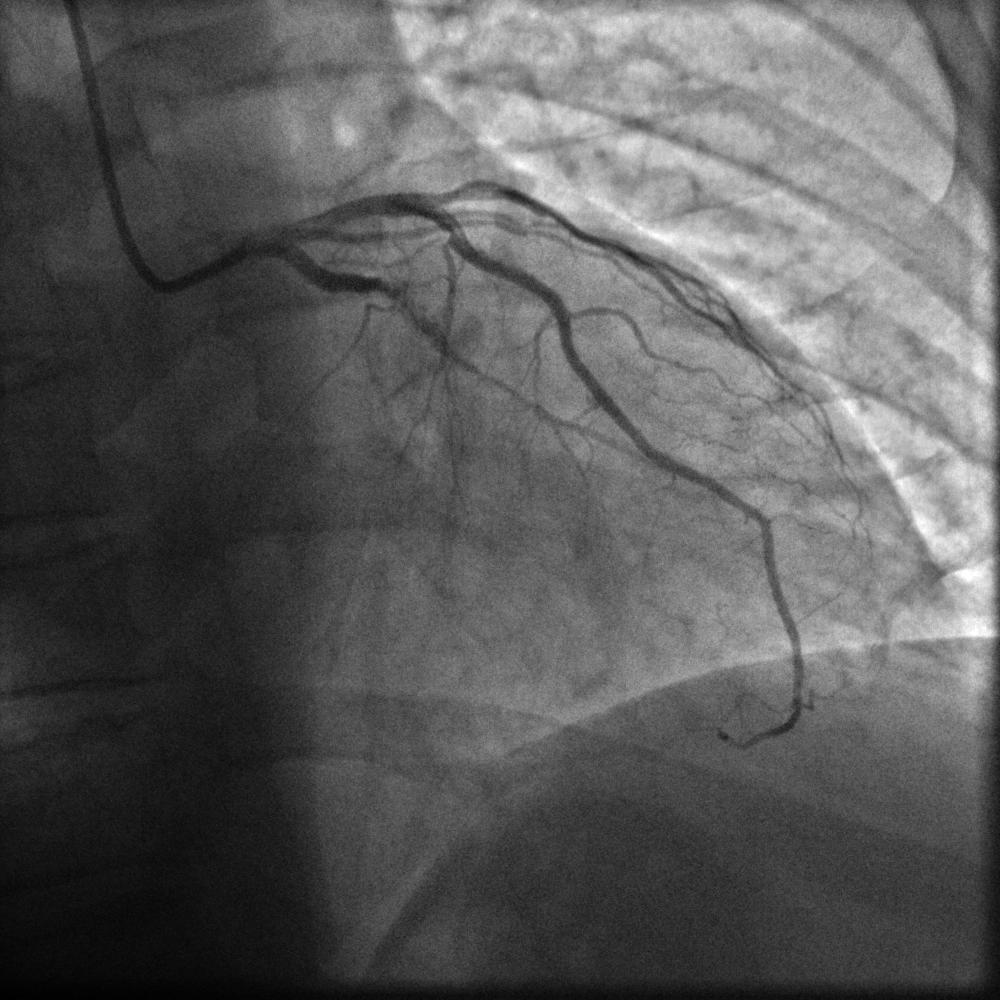Stenosis: (380, 275, 426, 330)
